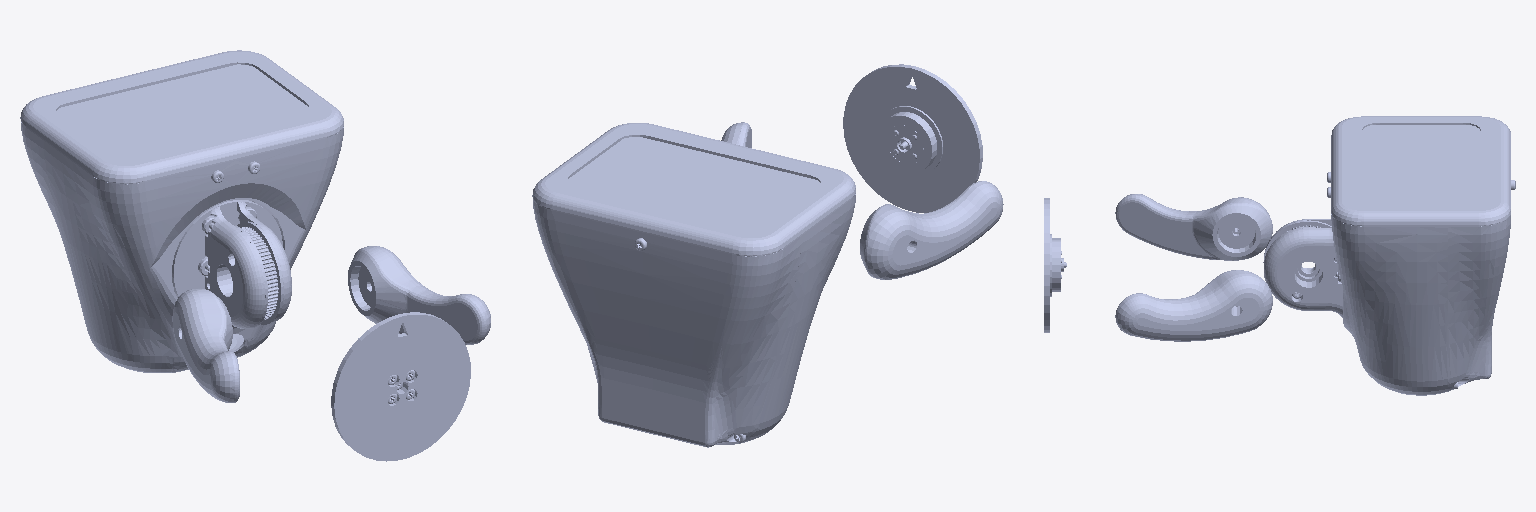
The robot description file, URDF, robot "#M_URDF":
<?xml version='1.0' encoding='utf-8'?>
<robot name="#M_URDF">
  <link name="Base">
    <inertial>
      <origin xyz="2.48988292640147E-19 -0.000381986343514737 -0.000120769552909844" rpy="0 0 0" />
      <mass value="0.0172150525280645" />
      <inertia ixx="4.90923271514972E-06" ixy="-3.71175829427805E-25" ixz="-6.4132105050569E-24" iyy="9.75099348291578E-06" iyz="-1.73634556868552E-09" izz="4.97120831120161E-06" />
    </inertial>
    <visual>
      <origin xyz="0 0 0" rpy="0 0 0" />
      <geometry>
        <mesh filename="meshes/Base.STL" />
      </geometry>
      <material name="">
        <color rgba="0.792156862745098 0.819607843137255 0.933333333333333 1" />
      </material>
    </visual>
    <collision>
      <origin xyz="0 0 0" rpy="0 0 0" />
      <geometry>
        <mesh filename="meshes/Base.STL" />
      </geometry>
    </collision>
  </link>
  <link name="Body">
    <inertial>
      <origin xyz="3.68188560942887E-05 0.0522122731743004 -0.00109025669822081" rpy="0 0 0" />
      <mass value="0.301079197417669" />
      <inertia ixx="0.00038749079961539" ixy="-2.82741377831088E-07" ixz="9.52630642376093E-08" iyy="0.000113222469701063" iyz="-1.09840940959666E-05" izz="0.000346482577016864" />
    </inertial>
    <visual>
      <origin xyz="0 0 0" rpy="0 0 0" />
      <geometry>
        <mesh filename="meshes/Body.STL" />
      </geometry>
      <material name="">
        <color rgba="0.792156862745098 0.819607843137255 0.933333333333333 1" />
      </material>
    </visual>
    <collision>
      <origin xyz="0 0 0" rpy="0 0 0" />
      <geometry>
        <mesh filename="meshes/Body.STL" />
      </geometry>
    </collision>
  </link>
  <joint name="BR" type="continuous">
    <origin xyz="0 0.01 0" rpy="0 0 0" />
    <parent link="Base" />
    <child link="Body" />
    <axis xyz="0 1 0" />
  <limit effort="100" velocity="1.0" lower="-3.14" upper="3.14" /></joint>
  <link name="Neck">
    <inertial>
      <origin xyz="1.82851050531566E-06 0.0117870748098477 0.000149662872534281" rpy="0 0 0" />
      <mass value="0.0665890089195563" />
      <inertia ixx="1.56547549552786E-05" ixy="-4.88288987300805E-09" ixz="-2.96684299388073E-08" iyy="1.59459636554017E-05" iyz="1.75733192198039E-07" izz="9.76556713072966E-06" />
    </inertial>
    <visual>
      <origin xyz="0 0 0" rpy="0 0 0" />
      <geometry>
        <mesh filename="meshes/Neck.STL" />
      </geometry>
      <material name="">
        <color rgba="0.792156862745098 0.819607843137255 0.933333333333333 1" />
      </material>
    </visual>
    <collision>
      <origin xyz="0 0 0" rpy="0 0 0" />
      <geometry>
        <mesh filename="meshes/Neck.STL" />
      </geometry>
    </collision>
  </link>
  <joint name="HK" type="continuous">
    <origin xyz="0 0.1335 0" rpy="0 0 0" />
    <parent link="Body" />
    <child link="Neck" />
    <axis xyz="1 0 0" />
  <limit effort="100" velocity="1.0" lower="-3.14" upper="3.14" /></joint>
  <link name="Head">
    <inertial>
      <origin xyz="-1.69707604478788E-05 0.022923532368001 0.0192496022024219" rpy="0 0 0" />
      <mass value="0.248395513826935" />
      <inertia ixx="0.000232413946547103" ixy="1.11365965126332E-08" ixz="-2.44983525731429E-08" iyy="0.000339283648202534" iyz="8.8219258916185E-06" izz="0.000312324947571492" />
    </inertial>
    <visual>
      <origin xyz="0 0 0" rpy="0 0 0" />
      <geometry>
        <mesh filename="meshes/Head.STL" />
      </geometry>
      <material name="">
        <color rgba="0.792156862745098 0.819607843137255 0.933333333333333 1" />
      </material>
    </visual>
    <collision>
      <origin xyz="0 0 0" rpy="0 0 0" />
      <geometry>
        <mesh filename="meshes/Head.STL" />
      </geometry>
    </collision>
  </link>
  <joint name="HR" type="continuous">
    <origin xyz="0 0.0370884572681199 0" rpy="0 0 0" />
    <parent link="Neck" />
    <child link="Head" />
    <axis xyz="0 1 0" />
  <limit effort="100" velocity="1.0" lower="-3.14" upper="3.14" /></joint>
  <link name="Right_Arm">
    <inertial>
      <origin xyz="-0.0145222332639852 -0.0182893735486157 -0.00285061290168179" rpy="0 0 0" />
      <mass value="0.0335568583065499" />
      <inertia ixx="1.84120710567895E-05" ixy="-4.702802725976E-06" ixz="-2.3177099839779E-07" iyy="4.54819504595918E-06" iyz="-6.43220947711984E-07" izz="1.82957929733706E-05" />
    </inertial>
    <visual>
      <origin xyz="0 0 0" rpy="0 0 0" />
      <geometry>
        <mesh filename="meshes/Right_Arm.STL" />
      </geometry>
      <material name="">
        <color rgba="0.792156862745098 0.819607843137255 0.933333333333333 1" />
      </material>
    </visual>
    <collision>
      <origin xyz="0 0 0" rpy="0 0 0" />
      <geometry>
        <mesh filename="meshes/Right_Arm.STL" />
      </geometry>
    </collision>
  </link>
  <joint name="RA" type="continuous">
    <origin xyz="-0.04125 0.09365 0" rpy="0 0 0" />
    <parent link="Body" />
    <child link="Right_Arm" />
    <axis xyz="-1 0 0" />
  <limit effort="100" velocity="1.0" lower="-3.14" upper="3.14" /></joint>
  <link name="Left_Arm">
    <inertial>
      <origin xyz="0.0145222302864002 -0.0182893396472853 -0.00285028055727338" rpy="0 0 0" />
      <mass value="0.0335578597315161" />
      <inertia ixx="1.84122972735832E-05" ixy="4.70298050506963E-06" ixz="2.31744258694691E-07" iyy="4.54847884424944E-06" iyz="-6.4328922806994E-07" izz="1.82958537835698E-05" />
    </inertial>
    <visual>
      <origin xyz="0 0 0" rpy="0 0 0" />
      <geometry>
        <mesh filename="meshes/Left_Arm.STL" />
      </geometry>
      <material name="">
        <color rgba="0.792156862745098 0.819607843137255 0.933333333333333 1" />
      </material>
    </visual>
    <collision>
      <origin xyz="0 0 0" rpy="0 0 0" />
      <geometry>
        <mesh filename="meshes/Left_Arm.STL" />
      </geometry>
    </collision>
  </link>
  <joint name="LA" type="continuous">
    <origin xyz="0.04125 0.09365 0" rpy="0 0 0" />
    <parent link="Body" />
    <child link="Left_Arm" />
    <axis xyz="-1 0 0" />
  <limit effort="100" velocity="1.0" lower="-3.14" upper="3.14" /></joint>
</robot>

--- Render facts (derived) ---
3 views of the same robot in one strip: view 1: azimuth 30°, elevation 25°; view 2: azimuth 150°, elevation 25°; view 3: azimuth 270°, elevation 25° (orthographic).
Robot: #M_URDF — 6 links, 5 joints (5 continuous); root link Base; default pose: every joint at zero.
Links seen in each view (by area): view 1: Head, Base, Neck, Left_Arm, Right_Arm; view 2: Head, Base, Right_Arm, Left_Arm; view 3: Head, Left_Arm, Right_Arm, Neck, Base.
Boxes of the visible links, x1,y1,x2,y2 form: Head: [20, 50, 343, 372]; Base: [331, 312, 470, 461]; Neck: [172, 200, 291, 328]; Left_Arm: [348, 246, 490, 344]; Right_Arm: [172, 288, 239, 402]; Head: [532, 123, 855, 447]; Base: [843, 64, 982, 212]; Right_Arm: [860, 181, 1003, 279]; Left_Arm: [721, 122, 751, 147]; Head: [1327, 116, 1515, 395]; Left_Arm: [1115, 270, 1272, 341]; Right_Arm: [1115, 194, 1272, 260]; Neck: [1263, 219, 1342, 317]; Base: [1044, 198, 1066, 332].
Bounding box of the posed robot: 0.1508 × 0.2613 × 0.1267 m (x, y, z).
Meshes: 6 distinct files referenced, 5 mesh visuals loaded (5 binary STL); not drawn: 1 (reference not matched to a file when rendering).